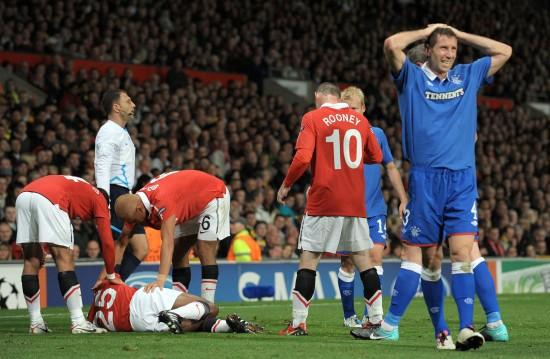bending: (13, 172, 128, 336), (118, 163, 234, 310)
down: (79, 262, 271, 340)
up: (384, 15, 518, 353), (279, 74, 395, 339), (338, 81, 410, 330), (90, 82, 148, 283)
